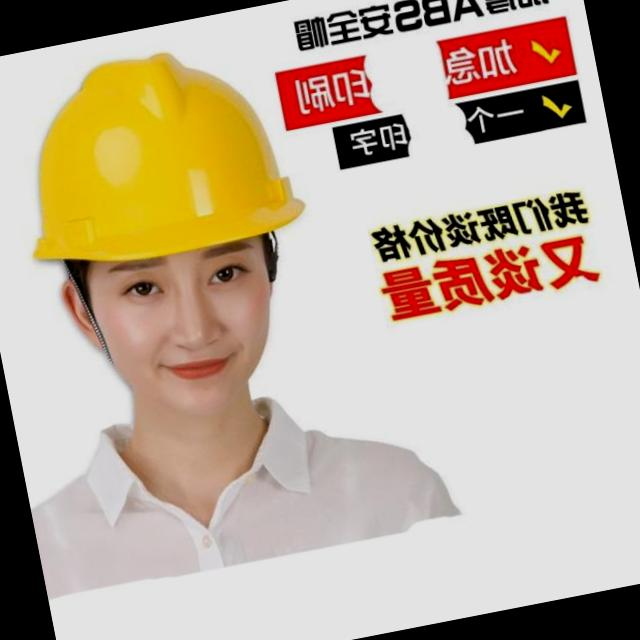helmet: (0, 23, 321, 296)
